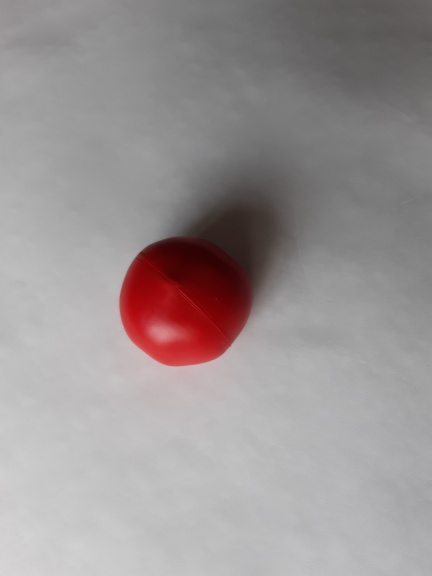tomato: (107, 226, 262, 381)
